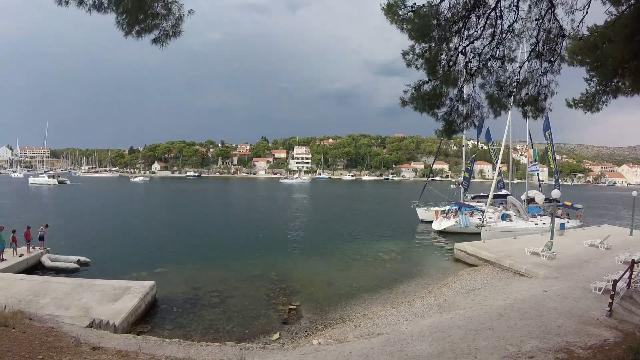Sailboat: (26, 166, 80, 188), (278, 173, 314, 187), (129, 172, 151, 184), (8, 169, 26, 179)
